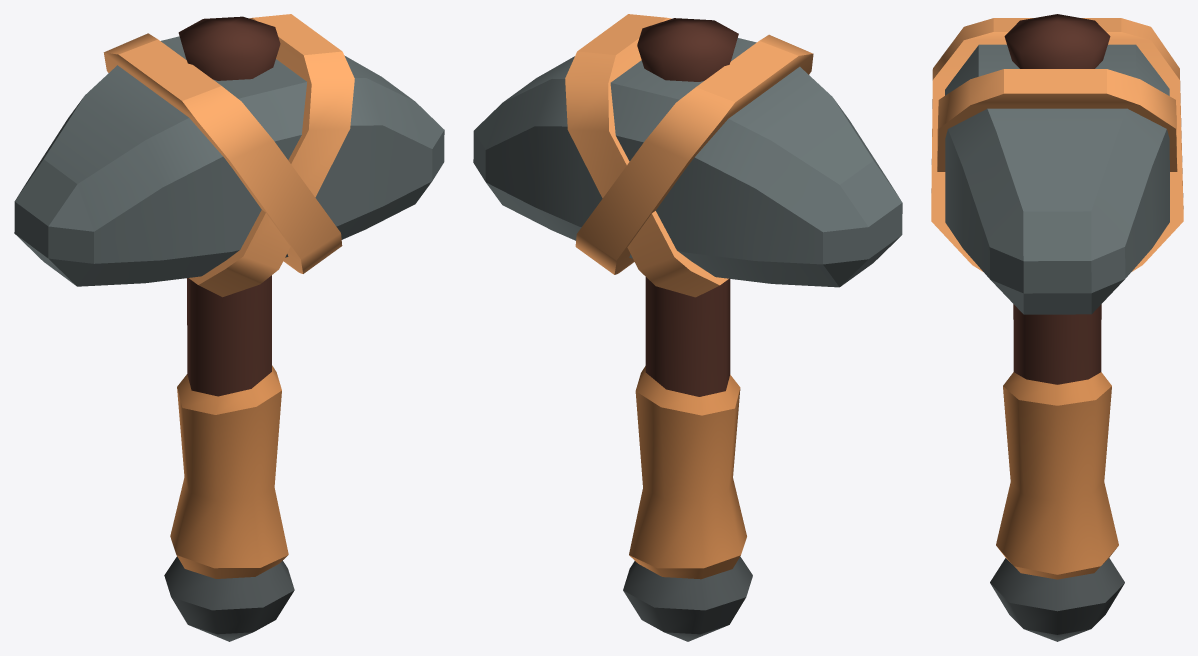
Rendered from Wield_Gear_Left_32.fbx.
3 views of the same model, side by side, from view 1: azimuth 30°, elevation 25°; view 2: azimuth 150°, elevation 25°; view 3: azimuth 270°, elevation 25° (orthographic).
Parts seen in each view (by area): view 1: Wield_Gear_Left_32; view 2: Wield_Gear_Left_32; view 3: Wield_Gear_Left_32.
Boxes of the visible parts, x1,y1,x2,y2 form: Wield_Gear_Left_32: (14,14,444,641); Wield_Gear_Left_32: (473,14,902,641); Wield_Gear_Left_32: (931,14,1183,641).
Bounding box in the file's own units: 35.23 × 52.51 × 19.4.
